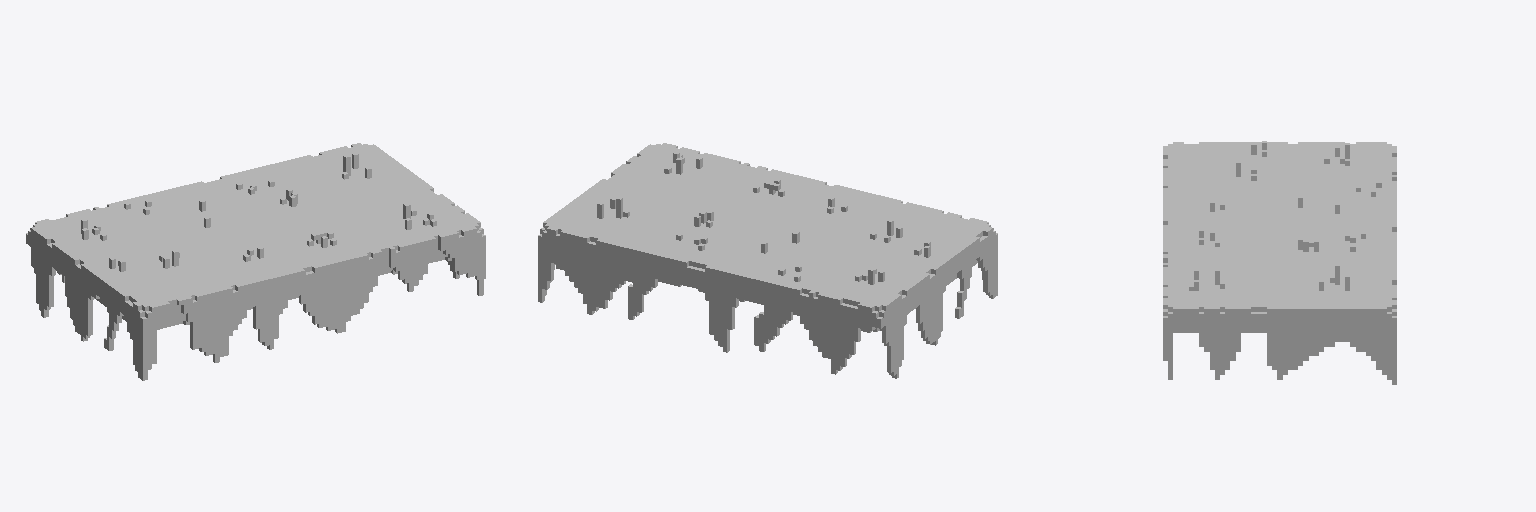
File: land.obj
3 renders of one model, left to right at view 1: azimuth 30°, elevation 25°; view 2: azimuth 150°, elevation 25°; view 3: azimuth 270°, elevation 25°, orthographic.
Visible parts, largest first — view 1: land; view 2: land; view 3: land.
Part boxes in pixels (left/top/right/bottom): land: left=26, top=143, right=485, bottom=380; land: left=538, top=143, right=997, bottom=378; land: left=1163, top=141, right=1396, bottom=384.
Size of the model in its own units: 7.6 by 2.1 by 4.5.